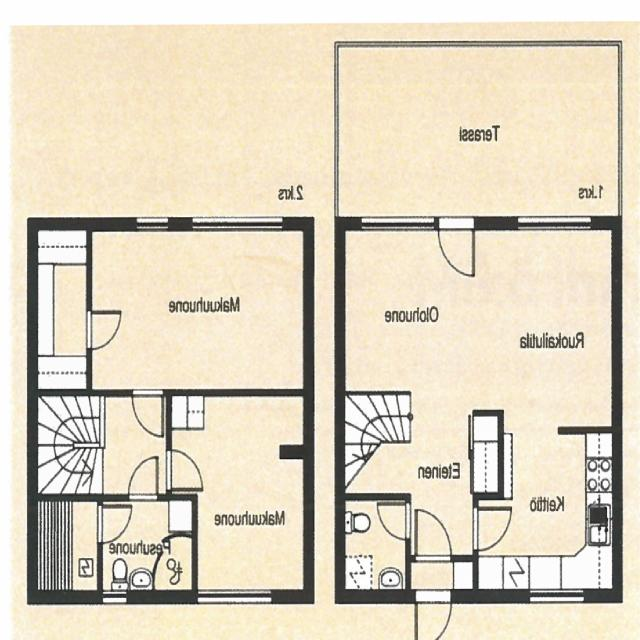door: (439, 217, 474, 274), (416, 510, 452, 562), (416, 589, 452, 640), (473, 508, 512, 550), (132, 388, 164, 436), (166, 450, 204, 490), (129, 456, 159, 501), (87, 311, 121, 348), (98, 506, 132, 542), (378, 503, 411, 539)
